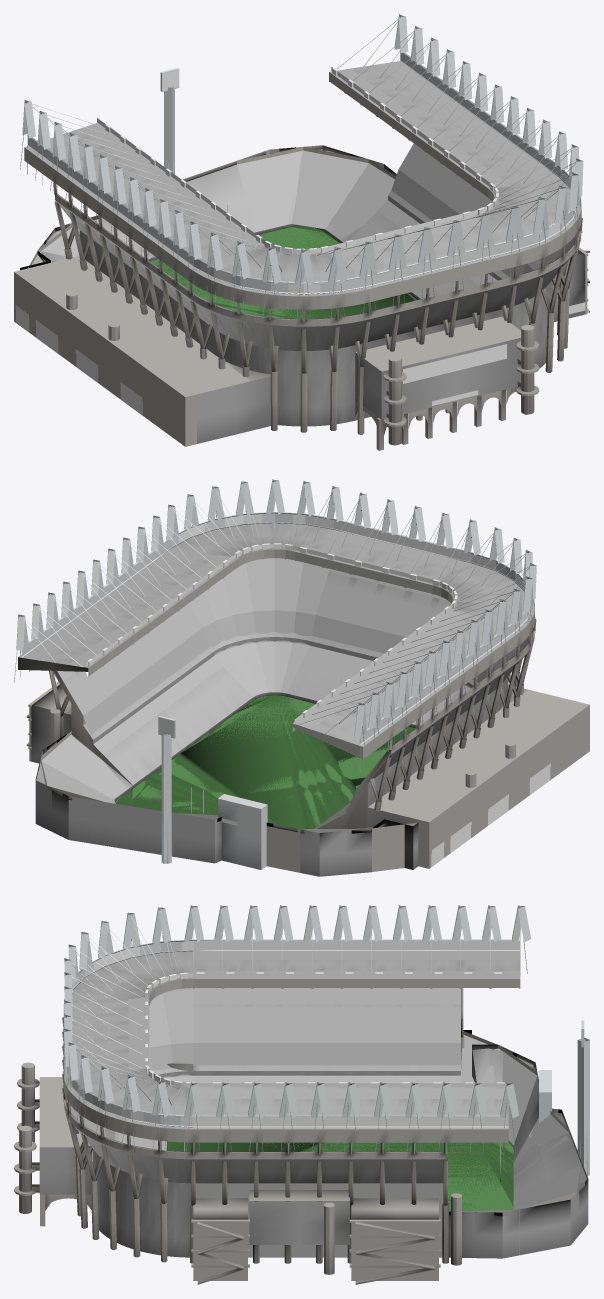
The model's file is crokepark.glb.
3 views of the same model, one above another, from view 1: azimuth 30°, elevation 25°; view 2: azimuth 150°, elevation 25°; view 3: azimuth 270°, elevation 25° (orthographic). The views are drawn at different scales.
Parts seen in each view (by area): view 1: cp_tile, cp_concrete, cpf_tile, cpf_concrete, cpf_white, cp_white, cp_decal, cpf_turf, cp_turf, cpf_flood, cp_flood; view 2: cp_tile, cpf_tile, cpf_concrete, cpf_white, cp_turf, cp_concrete, cp_white, cpf_turf, cp_decal, cpf_flood, cp_flood; view 3: cp_tile, cpf_tile, cp_concrete, cpf_white, cpf_concrete, cp_decal, cp_white, cp_turf, cpf_turf, cpf_flood, cp_flood.
Part boxes in pixels (x1,y1,x2,y2): cp_tile: (20, 64, 585, 443); cp_concrete: (20, 72, 589, 450); cpf_tile: (24, 61, 581, 403); cpf_concrete: (14, 81, 587, 450); cpf_white: (22, 14, 583, 292); cp_white: (20, 16, 582, 321); cp_decal: (15, 70, 585, 415); cpf_turf: (150, 227, 339, 318); cp_turf: (150, 226, 417, 319); cpf_flood: (97, 67, 497, 253); cp_flood: (105, 67, 498, 254); cp_tile: (31, 523, 534, 876); cpf_tile: (18, 523, 534, 819); cpf_concrete: (29, 549, 589, 872); cpf_white: (16, 479, 536, 869); cp_turf: (115, 695, 415, 829); cp_concrete: (18, 550, 536, 833); cp_white: (14, 480, 535, 869); cpf_turf: (115, 695, 387, 827); cp_decal: (162, 514, 550, 867); cpf_flood: (86, 544, 455, 731); cp_flood: (85, 543, 457, 731); cp_tile: (39, 951, 588, 1258); cpf_tile: (63, 951, 580, 1257); cp_concrete: (14, 984, 587, 1284); cpf_white: (64, 905, 589, 1175); cpf_concrete: (39, 979, 581, 1280); cp_decal: (72, 941, 586, 1174); cp_white: (63, 906, 587, 1181); cp_turf: (167, 1140, 513, 1211); cpf_turf: (262, 1142, 513, 1211); cpf_flood: (146, 973, 520, 1087); cp_flood: (145, 972, 504, 1088).
Bounding box in the file's own units: 115 × 49.07 × 131.
